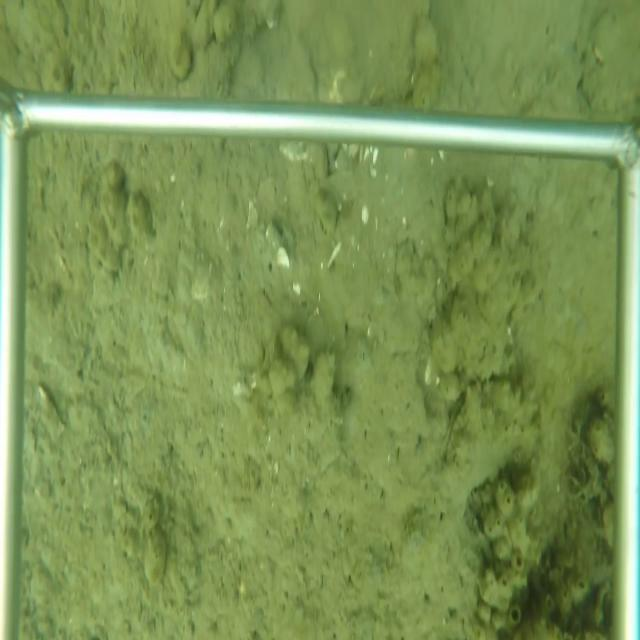Oyster-Closed: (438, 389, 470, 475)
